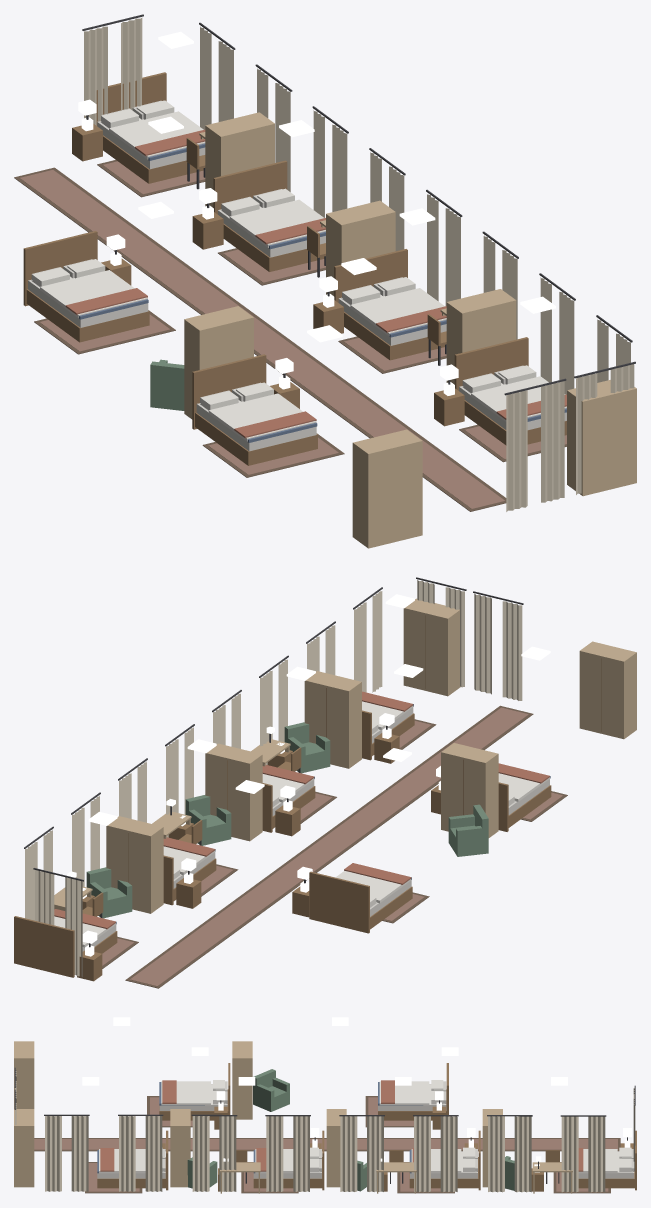
Rendered from fine-s2.glb.
3 renders of one model, top to bottom at view 1: azimuth 30°, elevation 25°; view 2: azimuth 150°, elevation 25°; view 3: azimuth 270°, elevation 25°, orthographic. The views are drawn at different scales.
Parts seen in each view (by area): view 1: soft-s2, dresser.007, dresser.011, bed-frame.006, bed-frame.007, bed-frame.009, bed-frame.010, dresser.006, dresser.010, dresser.008, bed-frame.008, dresser.009 (+6 smaller); view 2: soft-s2, dresser.007, dresser.011, dresser.008, dresser.010, dresser.009, dresser.006, bed-frame.006, bed-frame.008, lounge-chair.004, lounge-chair.005, lounge-chair.006 (+11 smaller); view 3: soft-s2, dresser.011, dresser.010, dresser.006, dresser.007, lounge-chair.004, dresser.009, bed-frame.006, bed-frame.011, bed-frame.007, bed-frame.009, bed-frame.010 (+10 smaller).
Boxes of the visible parts, x1,y1,x2,y2 form: soft-s2: (14, 14, 635, 511); dresser.007: (352, 429, 422, 548); dresser.011: (567, 380, 636, 496); bed-frame.006: (23, 231, 149, 342); bed-frame.007: (192, 354, 317, 465); bed-frame.009: (213, 160, 325, 271); bed-frame.010: (334, 249, 446, 360); dresser.006: (184, 306, 253, 419); dresser.010: (446, 289, 516, 384); dresser.008: (205, 112, 274, 207); bed-frame.008: (96, 72, 205, 183); dresser.009: (326, 200, 395, 295); soft-s2: (24, 577, 567, 988); dresser.007: (579, 641, 636, 739); dresser.011: (403, 598, 460, 696); dresser.008: (106, 816, 163, 913); dresser.010: (304, 671, 361, 768); dresser.009: (205, 743, 262, 841); dresser.006: (441, 743, 498, 837); bed-frame.006: (309, 871, 412, 933); bed-frame.008: (14, 916, 117, 977); lounge-chair.004: (448, 804, 488, 856); lounge-chair.005: (86, 867, 132, 918); lounge-chair.006: (185, 795, 231, 845); soft-s2: (14, 1067, 635, 1193); dresser.011: (14, 1109, 34, 1187); dresser.010: (170, 1109, 190, 1187); dresser.006: (232, 1041, 252, 1119); dresser.007: (14, 1041, 34, 1108); lounge-chair.004: (253, 1069, 289, 1111); dresser.009: (326, 1109, 346, 1187); bed-frame.006: (378, 1063, 448, 1120); bed-frame.011: (97, 1130, 168, 1190); bed-frame.007: (159, 1063, 230, 1120); bed-frame.009: (409, 1130, 480, 1190); bed-frame.010: (253, 1130, 324, 1190).
Bounding box in the file's own units: 6.83 × 3.08 × 18.44.
